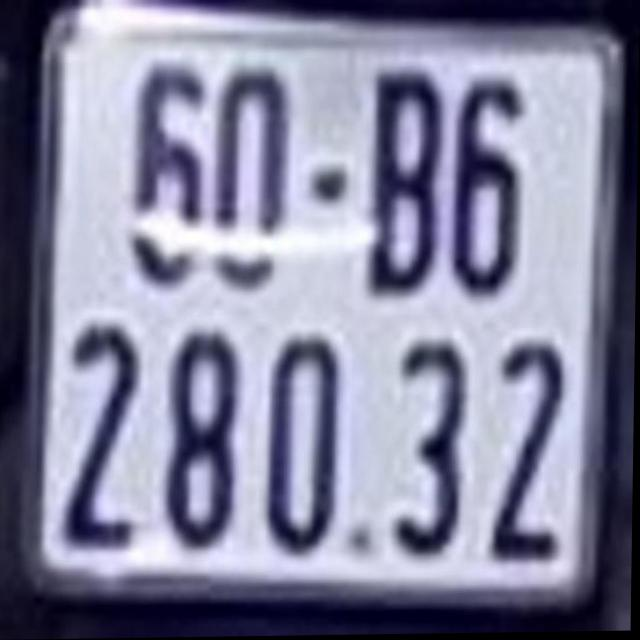0: (259, 336, 343, 559), (217, 68, 290, 289)
2: (490, 337, 571, 565), (64, 323, 140, 549)
3: (395, 338, 470, 561)
6: (133, 57, 207, 293), (454, 78, 529, 301)
8: (164, 330, 243, 548)
B: (365, 65, 448, 302)
